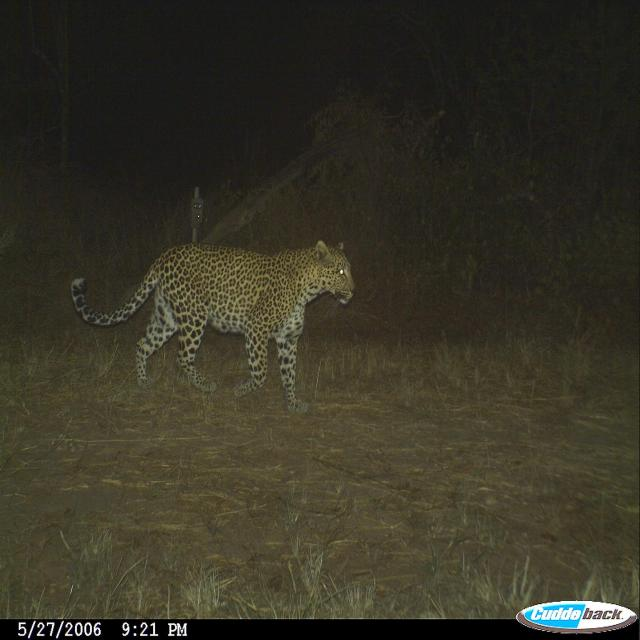Leopard: (70, 229, 353, 411)
